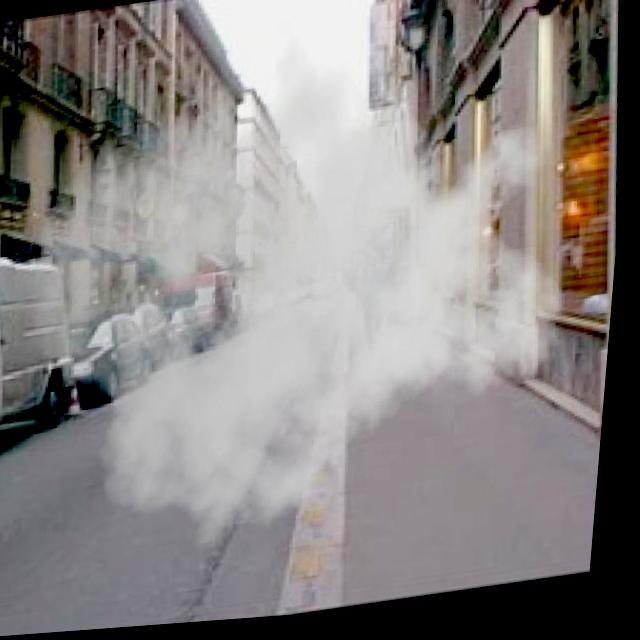Smoke: (31, 0, 573, 589)
